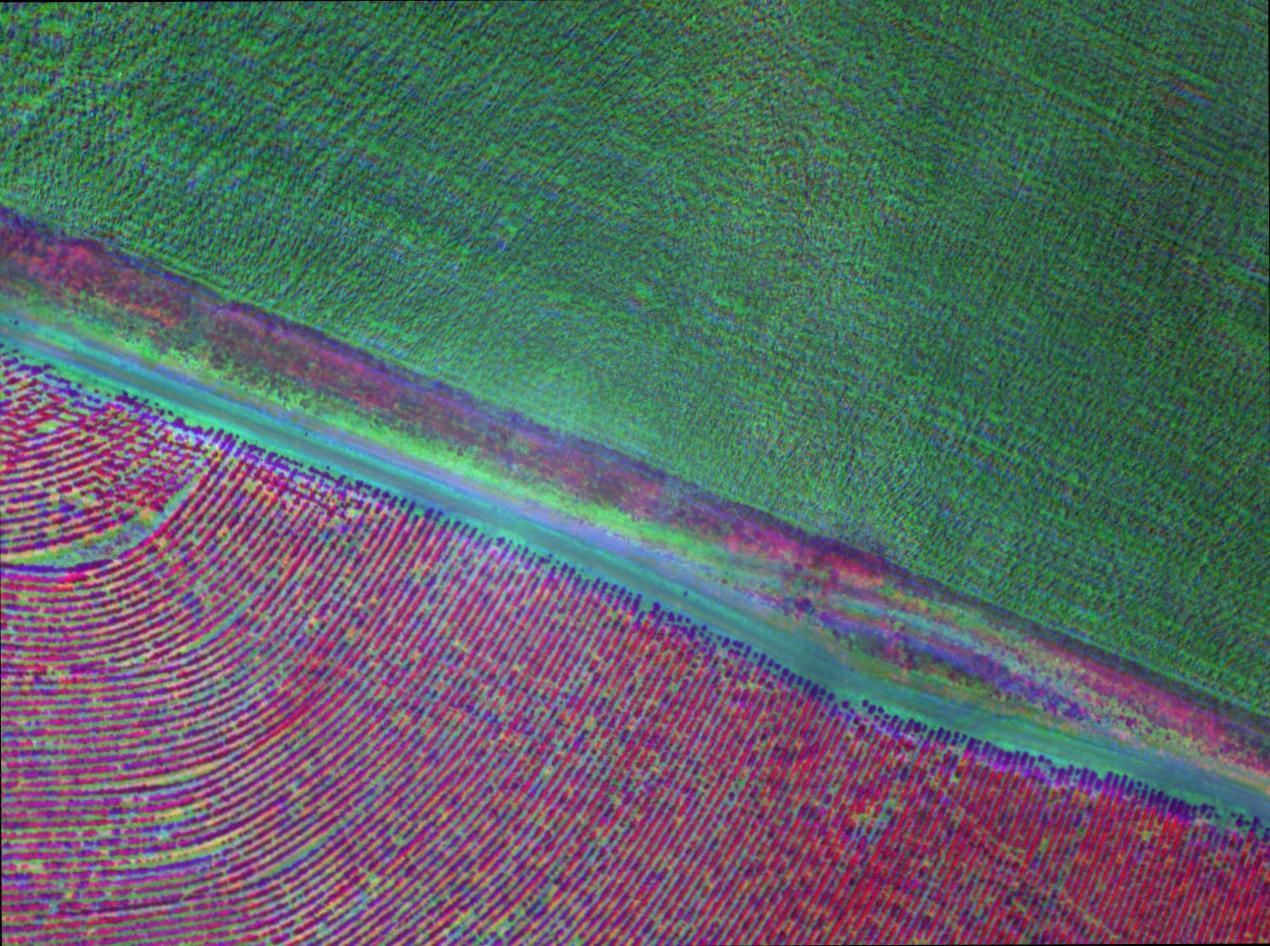dc: (0, 475, 208, 568), (71, 765, 249, 867), (316, 880, 572, 946), (213, 575, 305, 664)
